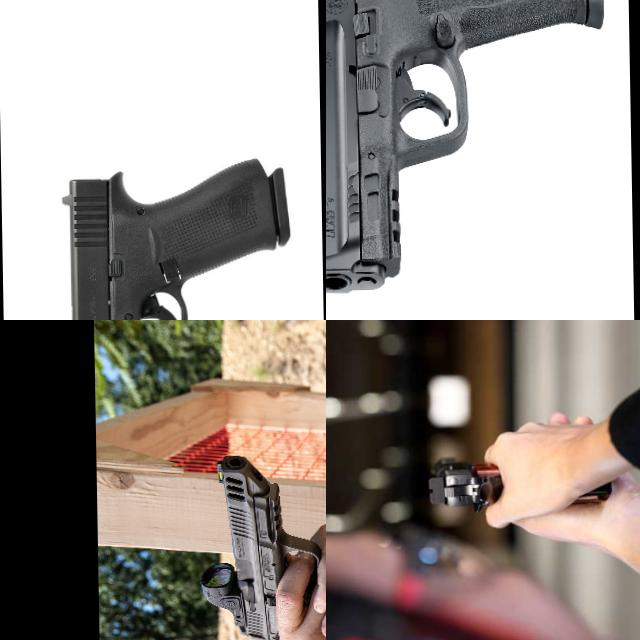handgun: (326, 0, 610, 295), (59, 151, 297, 320), (198, 447, 325, 640), (420, 446, 510, 516)
